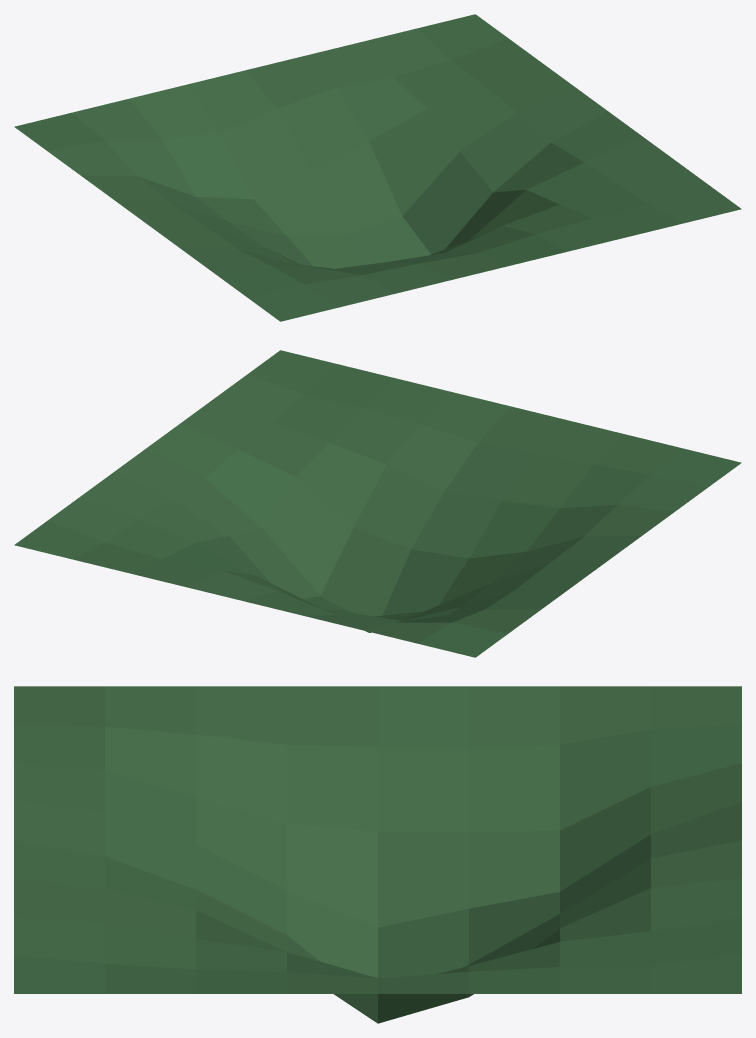
The model's file is Terrain_11_Light_Green.fbx.
3 views of the same model, one above another, from view 1: azimuth 30°, elevation 25°; view 2: azimuth 150°, elevation 25°; view 3: azimuth 270°, elevation 25° (orthographic). The views are drawn at different scales.
Parts seen in each view (by area): view 1: Terrain_11_Light_Green; view 2: Terrain_11_Light_Green; view 3: Terrain_11_Light_Green.
Boxes of the visible parts, <box> form: Terrain_11_Light_Green: <box>14,14,741,321</box>; Terrain_11_Light_Green: <box>14,350,741,657</box>; Terrain_11_Light_Green: <box>14,686,741,1023</box>.
Size of the model in its own units: 5000 by 1260 by 5000.
